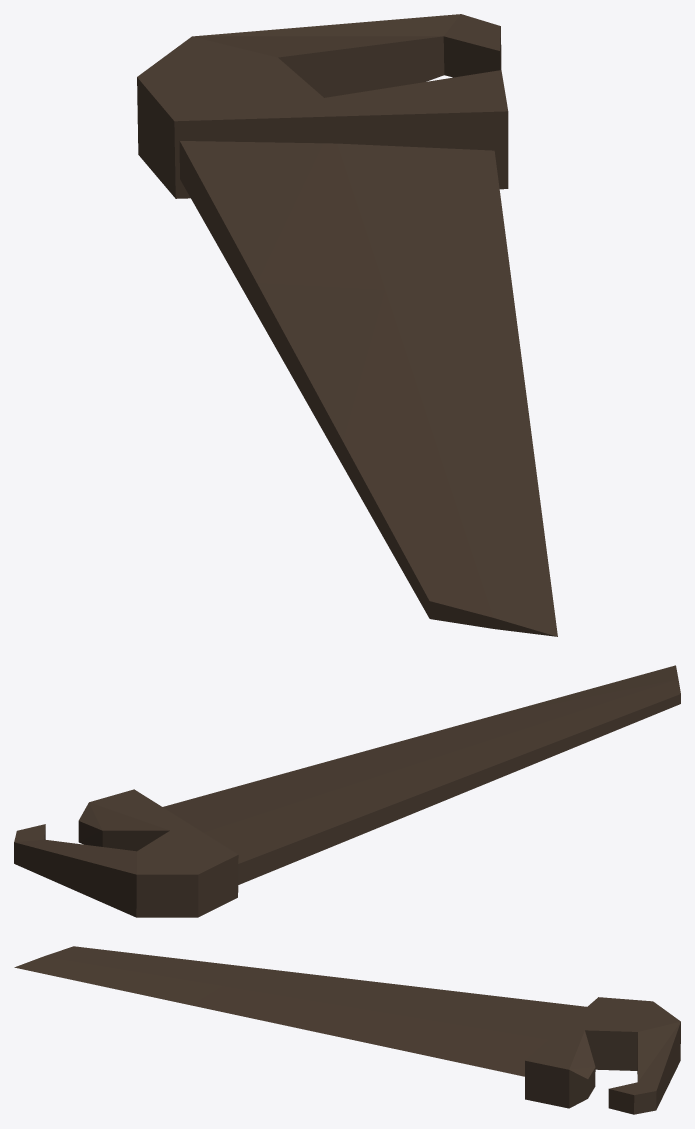
Rendered from ITMI_SAW.OBJ.
The picture shows the model from 3 angles, top to bottom: view 1: azimuth 30°, elevation 25°; view 2: azimuth 150°, elevation 25°; view 3: azimuth 270°, elevation 25°; orthographic projection. The views are drawn at different scales.
Visible parts, largest first — view 1: ITMI_SAW; view 2: ITMI_SAW; view 3: ITMI_SAW.
Boxes of the visible parts, x1,y1,x2,y2 form: ITMI_SAW: (137, 14, 557, 636); ITMI_SAW: (14, 665, 680, 917); ITMI_SAW: (14, 946, 680, 1114).
Size of the model in its own units: 0.341 by 0.04 by 0.623.
